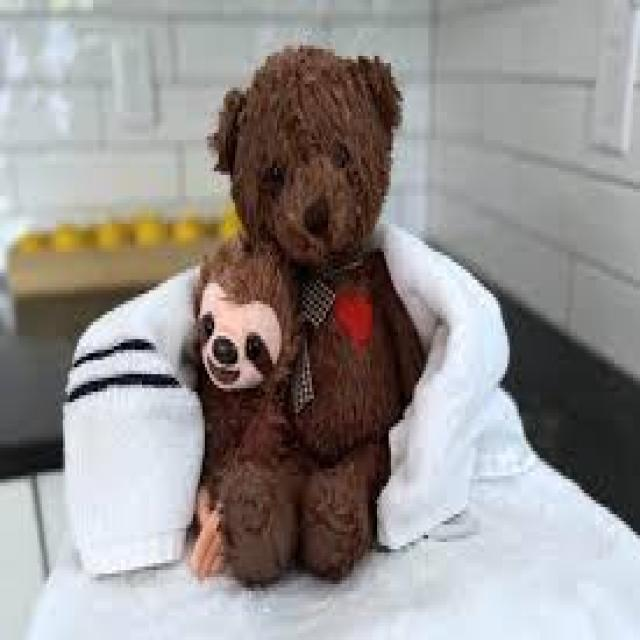soft-toy: (191, 47, 427, 586)
